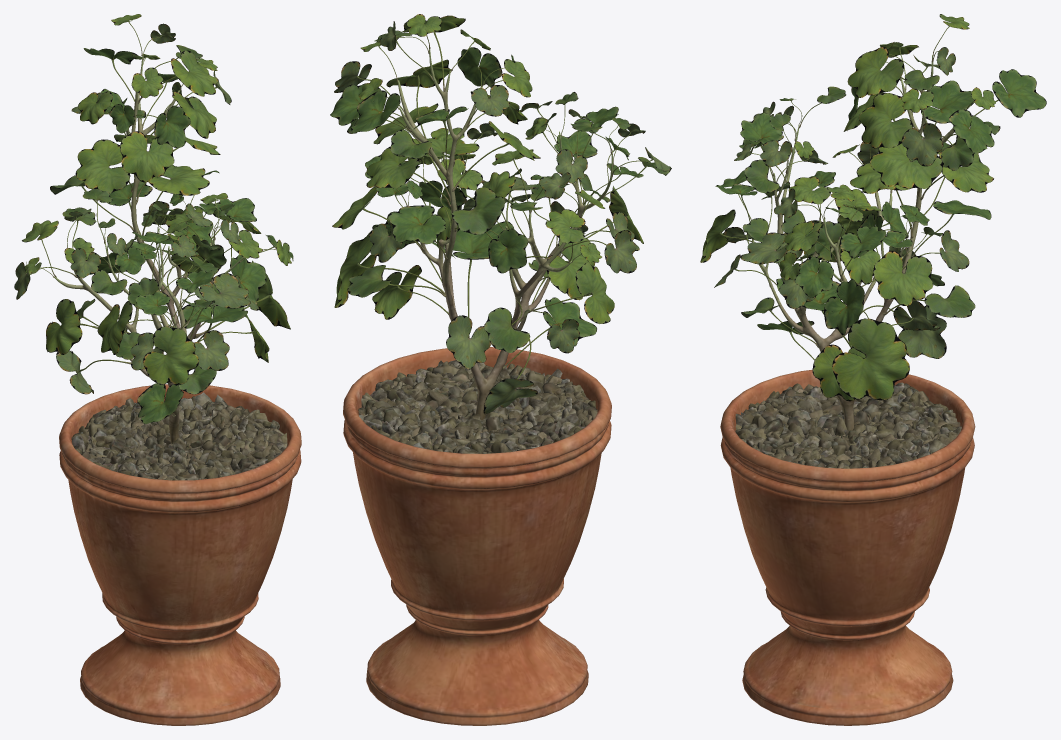
Rendered from potted_plant_01.glb.
The picture shows the model from 3 angles, left to right: view 1: azimuth 30°, elevation 25°; view 2: azimuth 150°, elevation 25°; view 3: azimuth 270°, elevation 25°; orthographic projection. The views are drawn at different scales.
Parts seen in each view (by area): view 1: potted_plant_01_pot, potted_plant_01_leaves, potted_plant_01_pebbles, potted_plant_01_stem; view 2: potted_plant_01_pot, potted_plant_01_leaves, potted_plant_01_pebbles, potted_plant_01_stem; view 3: potted_plant_01_pot, potted_plant_01_leaves, potted_plant_01_pebbles, potted_plant_01_stem.
Part boxes in pixels (left/top/right/bottom): potted_plant_01_pot: left=59, top=384, right=301, bottom=725; potted_plant_01_leaves: left=14, top=14, right=293, bottom=423; potted_plant_01_pebbles: left=71, top=392, right=287, bottom=480; potted_plant_01_stem: left=53, top=54, right=244, bottom=443; potted_plant_01_pot: left=343, top=347, right=611, bottom=725; potted_plant_01_leaves: left=330, top=14, right=671, bottom=414; potted_plant_01_pebbles: left=358, top=360, right=597, bottom=453; potted_plant_01_stem: left=397, top=49, right=612, bottom=420; potted_plant_01_pot: left=720, top=369, right=975, bottom=725; potted_plant_01_leaves: left=700, top=14, right=1046, bottom=401; potted_plant_01_pebbles: left=735, top=382, right=961, bottom=468; potted_plant_01_stem: left=751, top=55, right=966, bottom=431.
Size of the model in its own units: 0.5874 by 1.34 by 0.6336.
2 materials, 2 textured.
